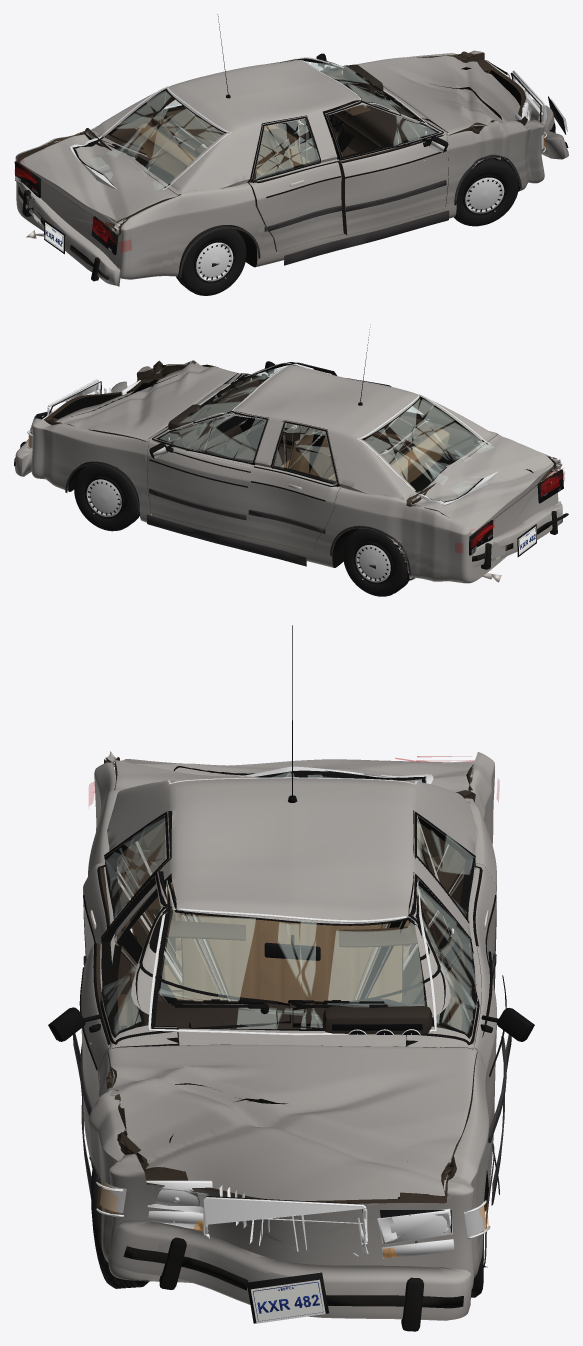
File: sedan87_front_corner_R_d1_lod1.glb
The picture shows the model from 3 angles, top to bottom: view 1: azimuth 30°, elevation 25°; view 2: azimuth 150°, elevation 25°; view 3: azimuth 270°, elevation 25°; orthographic projection. The views are drawn at different scales.
Visible parts, largest first — view 1: Body, Door_FR, Interior, Hood, Glass, Trunk, Door_RR, Wheel_RR_mesh, Wheel_FR_mesh, Trim, Ends, Bumper_R (+7 smaller); view 2: Body, Door_FL, Glass, Trunk, Interior, Hood, Door_RL, Wheel_FL_mesh, Wheel_RL_mesh, Trim, Glass_FL, Ends (+10 smaller); view 3: Body, Hood, Interior, Glass, Bumper_F, Ends, Door_FR, Door_FL, Trunk, Trim_FR, Trim_FL, Door_RR (+9 smaller).
Part boxes in pixels (x1=…): Body: x1=15, y1=50, x2=544, y2=279; Door_FR: x1=323, y1=101, x2=449, y2=235; Interior: x1=136, y1=64, x2=429, y2=195; Hood: x1=355, y1=56, x2=520, y2=135; Glass: x1=69, y1=57, x2=427, y2=189; Trunk: x1=19, y1=132, x2=177, y2=226; Door_RR: x1=248, y1=115, x2=343, y2=251; Wheel_RR_mesh: x1=176, y1=225, x2=246, y2=295; Wheel_FR_mesh: x1=454, y1=157, x2=518, y2=226; Trim: x1=179, y1=14, x2=521, y2=277; Ends: x1=14, y1=60, x2=567, y2=254; Bumper_R: x1=18, y1=182, x2=121, y2=286; Body: x1=31, y1=360, x2=562, y2=583; Door_FL: x1=147, y1=411, x2=268, y2=537; Glass: x1=167, y1=362, x2=497, y2=505; Trunk: x1=411, y1=435, x2=556, y2=534; Interior: x1=166, y1=381, x2=449, y2=483; Hood: x1=56, y1=363, x2=238, y2=441; Door_RL: x1=248, y1=420, x2=341, y2=552; Wheel_FL_mesh: x1=74, y1=461, x2=139, y2=531; Wheel_RL_mesh: x1=343, y1=528, x2=409, y2=596; Trim: x1=65, y1=324, x2=410, y2=575; Glass_FL: x1=156, y1=411, x2=268, y2=461; Ends: x1=26, y1=379, x2=563, y2=556; Body: x1=88, y1=751, x2=496, y2=1290; Hood: x1=107, y1=1044, x2=477, y2=1200; Interior: x1=137, y1=821, x2=447, y2=1045; Glass: x1=148, y1=766, x2=436, y2=1035; Bumper_F: x1=108, y1=1220, x2=472, y2=1331; Ends: x1=96, y1=1180, x2=490, y2=1323; Door_FR: x1=81, y1=871, x2=178, y2=1168; Door_FL: x1=406, y1=873, x2=496, y2=1179; Trunk: x1=115, y1=757, x2=473, y2=791; Trim_FR: x1=48, y1=872, x2=290, y2=1115; Trim_FL: x1=292, y1=874, x2=534, y2=1142; Door_RR: x1=83, y1=811, x2=172, y2=1029.
Size of the model in its own units: 4.86 by 2.14 by 2.09.
Materials: 33 (5 with a texture image).
